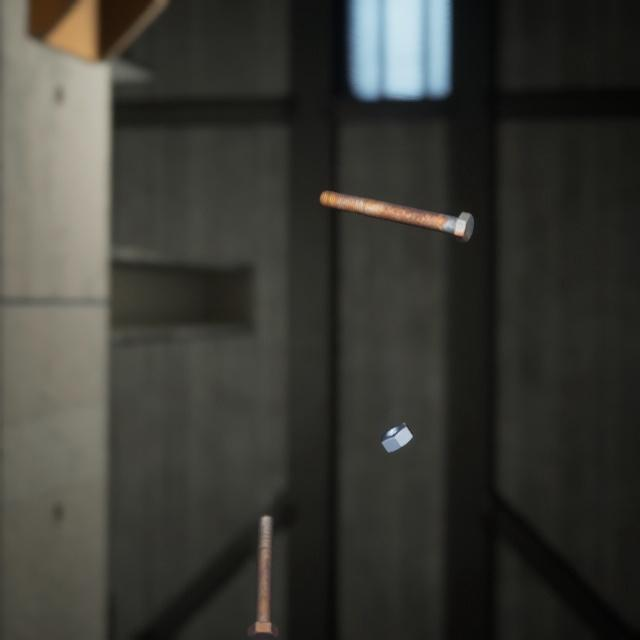bolt: (315, 172, 478, 233), (243, 488, 282, 623)
nut: (376, 399, 417, 437)
